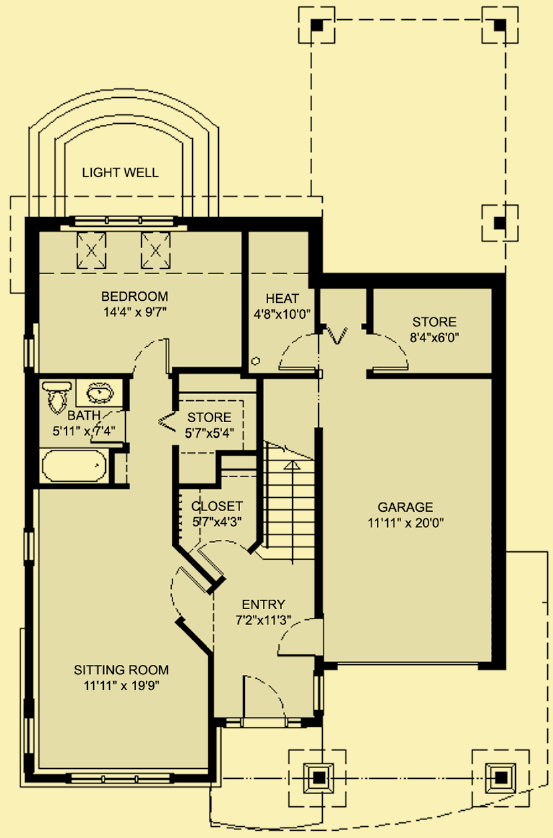bathroom has a tub, small and large sink: (33, 374, 133, 489)
